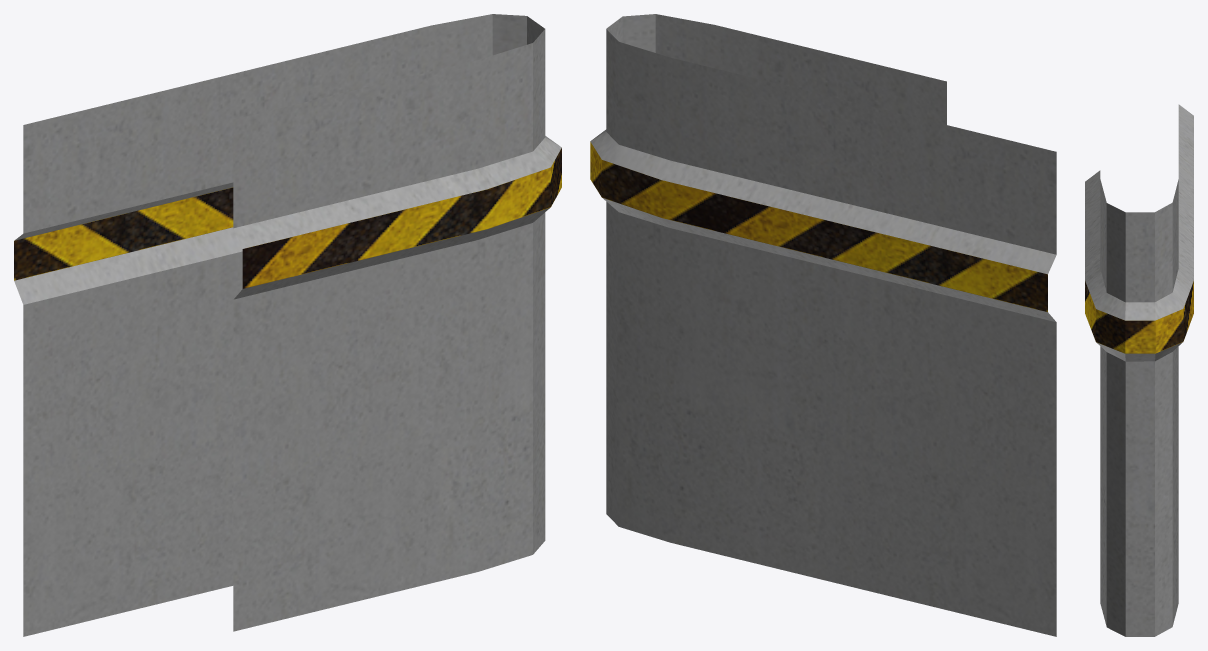
File: Wall_05m_Roll180_03.FBX
3 renders of one model, left to right at view 1: azimuth 30°, elevation 25°; view 2: azimuth 150°, elevation 25°; view 3: azimuth 270°, elevation 25°, orthographic. The views are drawn at different scales.
Visible parts, largest first — view 1: Wall_05m_Roll180_03_mesh; view 2: Wall_05m_Roll180_03_mesh; view 3: Wall_05m_Roll180_03_mesh.
Boxes of the visible parts, x1,y1,x2,y2 form: Wall_05m_Roll180_03_mesh: [14, 14, 561, 636]; Wall_05m_Roll180_03_mesh: [590, 14, 1056, 636]; Wall_05m_Roll180_03_mesh: [1085, 104, 1193, 636].
Size of the model in its own units: 311 by 300 by 69.63.
Materials: 2 (2 with a texture image).
